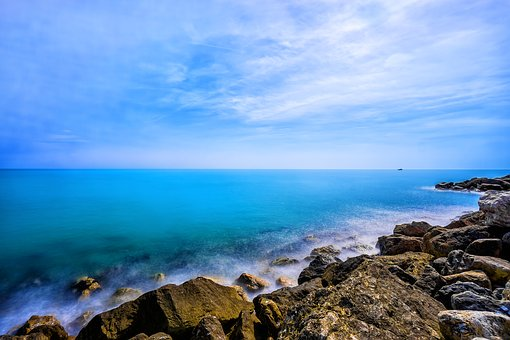sea: (6, 168, 501, 340)
sky: (1, 2, 509, 167)
stone: (180, 227, 510, 340)
